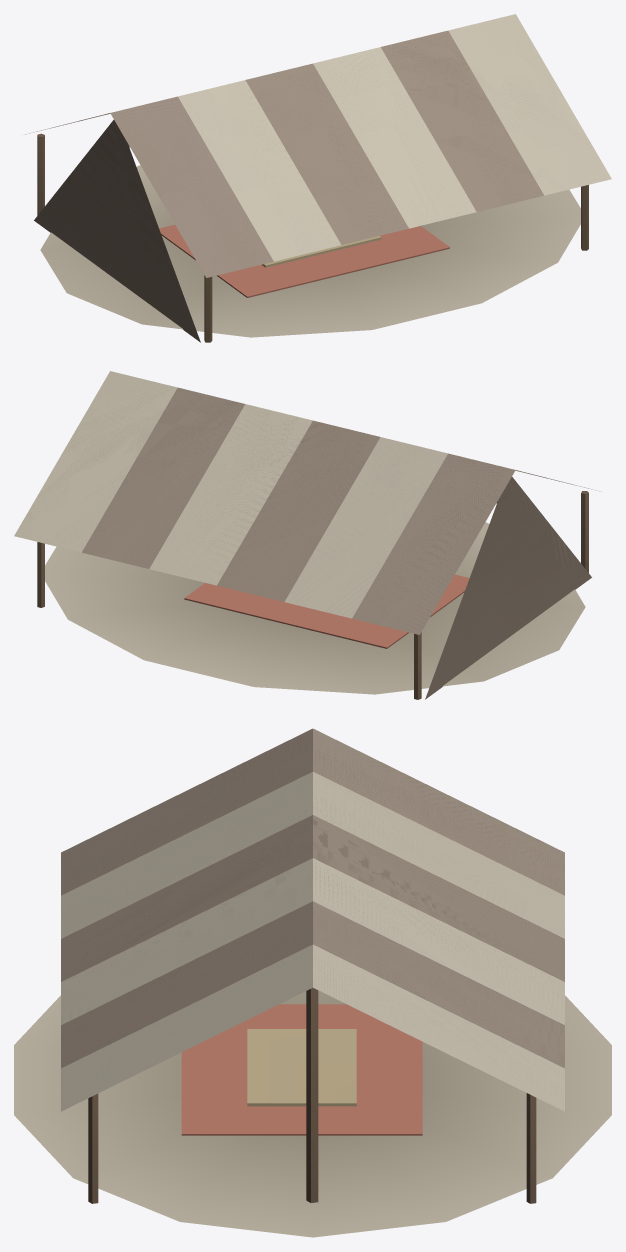
The model's file is tent.glb.
The picture shows the model from 3 angles, top to bottom: view 1: azimuth 30°, elevation 25°; view 2: azimuth 150°, elevation 25°; view 3: azimuth 270°, elevation 25°; orthographic projection. The views are drawn at different scales.
Parts seen in each view (by area): view 1: tent; view 2: tent; view 3: tent.
Boxes of the visible parts, box(x1,y1,x2,y2) form: tent: box(25, 14, 611, 342); tent: box(14, 371, 600, 699); tent: box(14, 728, 611, 1237).
Bounding box in the file's own units: 6.8 × 2.25 × 5.46.
